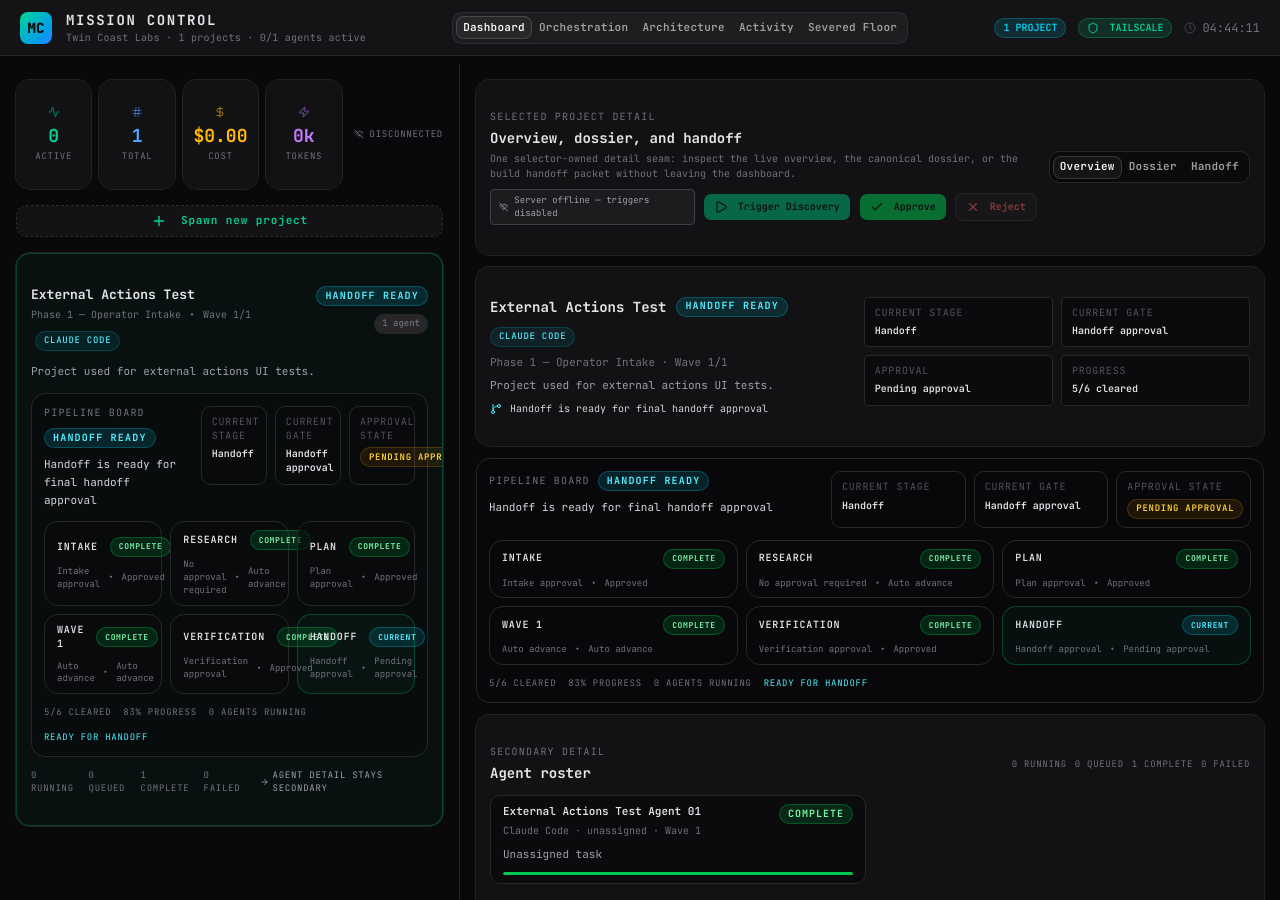
Test: ExternalActionsPanel UI › pending action › shows Confirm and Cancel buttons for pending action
The image size is (1280, 900).
Click the tab "Handoff".
click(1215, 167)  # box [1184,156,1246,179]
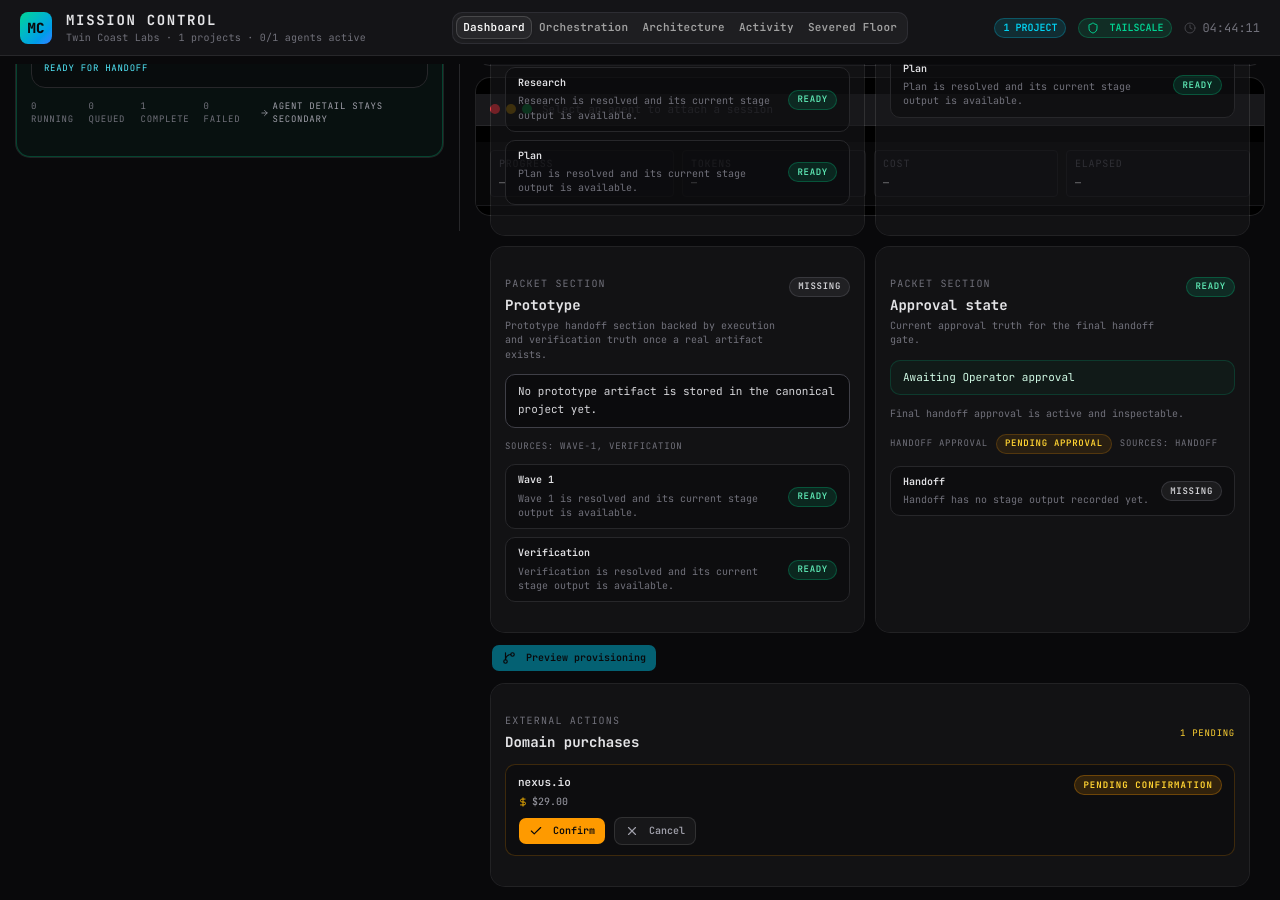
Now the element with test id "external-action-act-001" is shown, box [505,764,1235,856]
Now the button with test id "external-action-confirm-btn" is shown, box [518,817,606,845]
Now the button with test id "external-action-cancel-btn" is shown, box [614,817,696,845]
